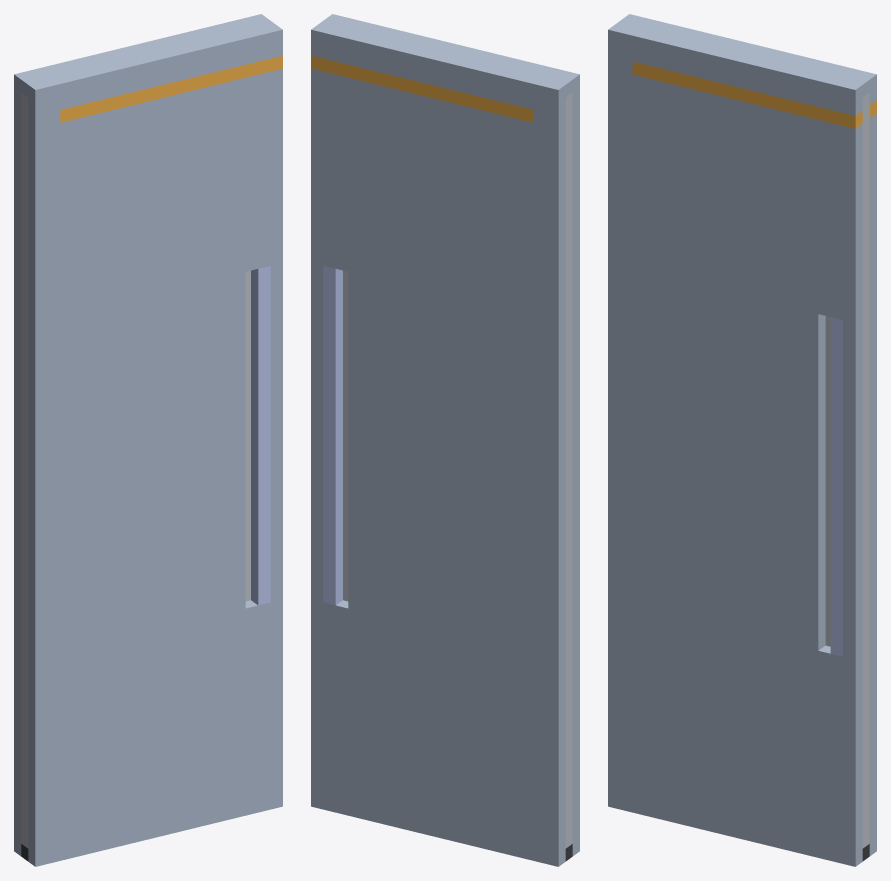
File: door-lab-left.obj
3 views of the same model, side by side, from view 1: azimuth 30°, elevation 25°; view 2: azimuth 150°, elevation 25°; view 3: azimuth 330°, elevation 25° (orthographic).
Bounding box in the file's own units: 2 × 6 × 0.3.
Materials: 1 (1 with a texture image).
